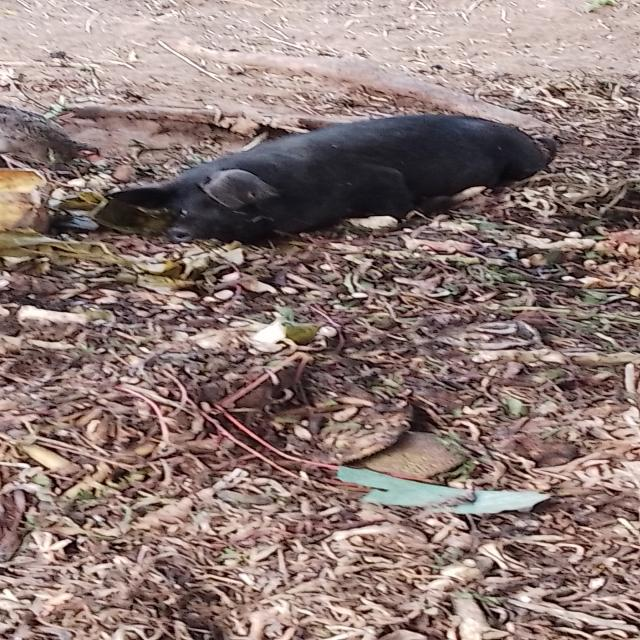pig: (55, 80, 587, 278)
